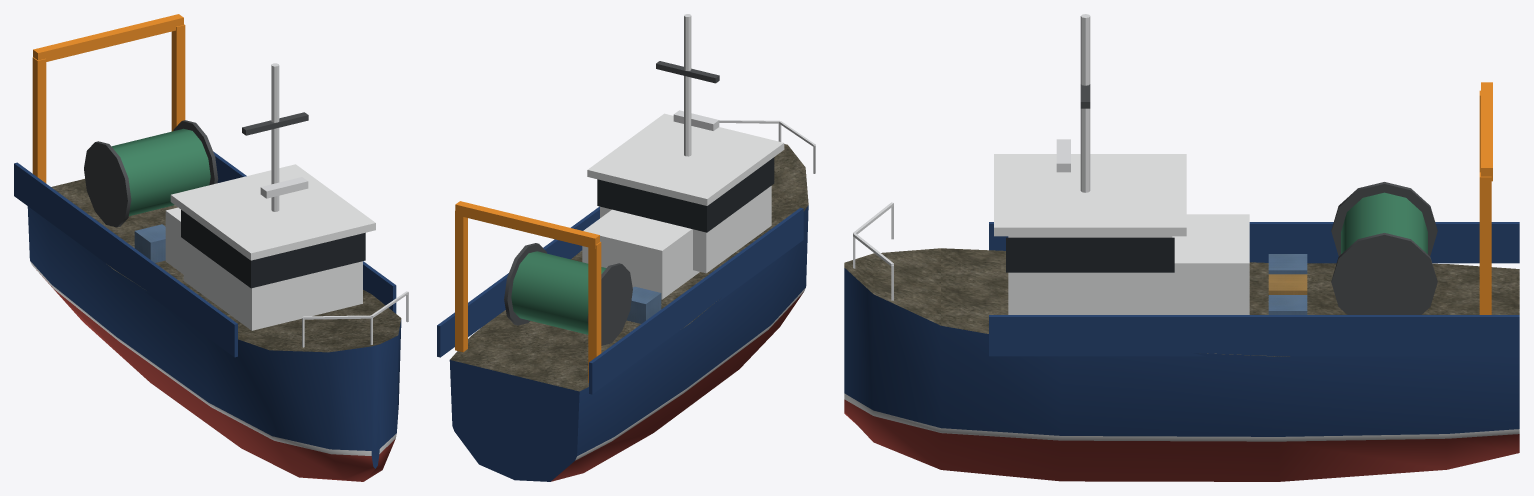
The model's file is boat_fishing.glb.
The picture shows the model from 3 angles, left to right: view 1: azimuth 30°, elevation 25°; view 2: azimuth 150°, elevation 25°; view 3: azimuth 270°, elevation 25°; orthographic projection. The views are drawn at different scales.
Visible parts, largest first — view 1: boat_fishing; view 2: boat_fishing; view 3: boat_fishing.
Part boxes in pixels (x1,y1,x2,y2): boat_fishing: (14,14,408,481); boat_fishing: (437,14,815,481); boat_fishing: (844,14,1519,481).
Bounding box in the file's own units: 0.235 × 0.52 × 0.7.
11 materials, 3 textured.
